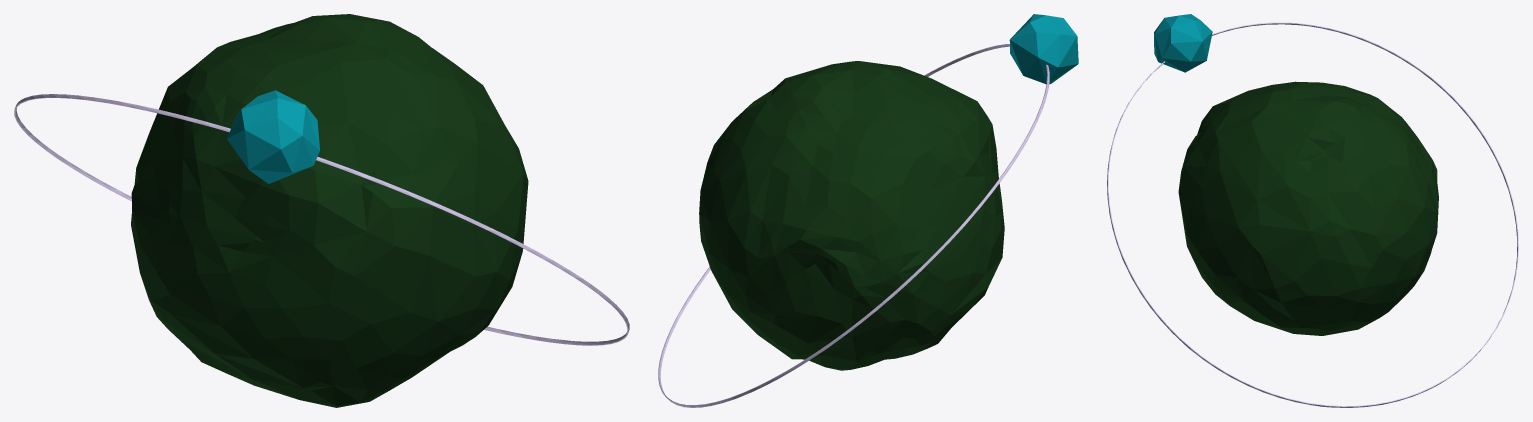
File: Planet_15.glb
3 renders of one model, left to right at view 1: azimuth 30°, elevation 25°; view 2: azimuth 150°, elevation 25°; view 3: azimuth 270°, elevation 25°, orthographic. The views are drawn at different scales.
Visible parts, largest first — view 1: Planet_15; view 2: Planet_15; view 3: Planet_15.
Part boxes in pixels (bbox=[...]): Planet_15: bbox=[14, 14, 629, 407]; Planet_15: bbox=[658, 14, 1078, 407]; Planet_15: bbox=[1107, 14, 1518, 407].
Bounding box in the file's own units: 26.71 × 23.08 × 30.83.
Materials: 1 (1 with a texture image).
